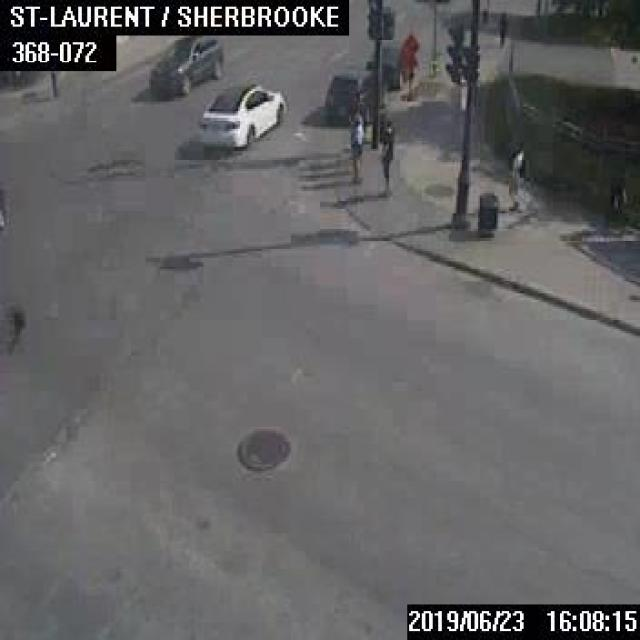pedestrian: (505, 141, 522, 209), (346, 117, 364, 180), (378, 127, 391, 194), (496, 13, 506, 44)
vehicle: (200, 78, 282, 149), (147, 31, 222, 96), (320, 69, 387, 124), (367, 40, 415, 87)
